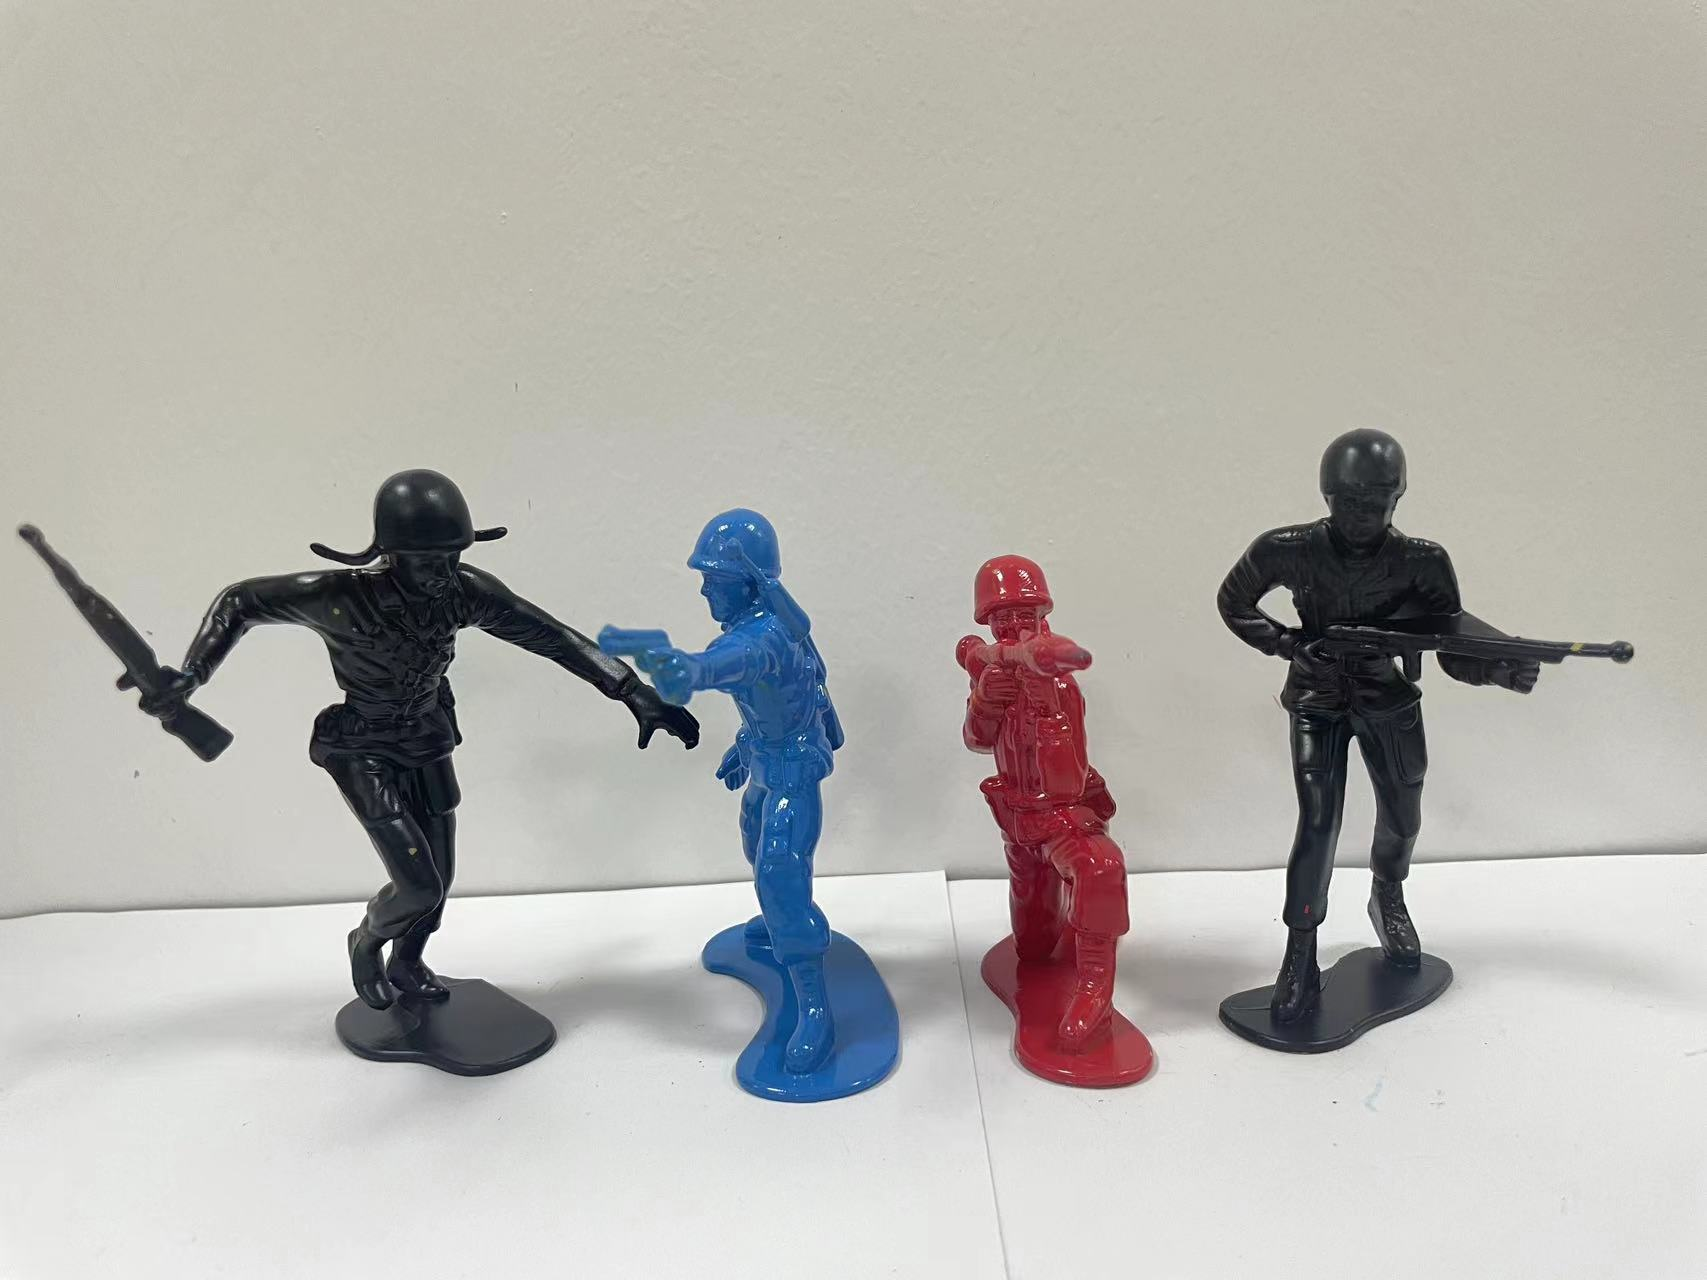black: (4, 442, 667, 1104), (1188, 397, 1653, 1082)
blue: (587, 497, 931, 1115)
red: (940, 541, 1194, 1131)
